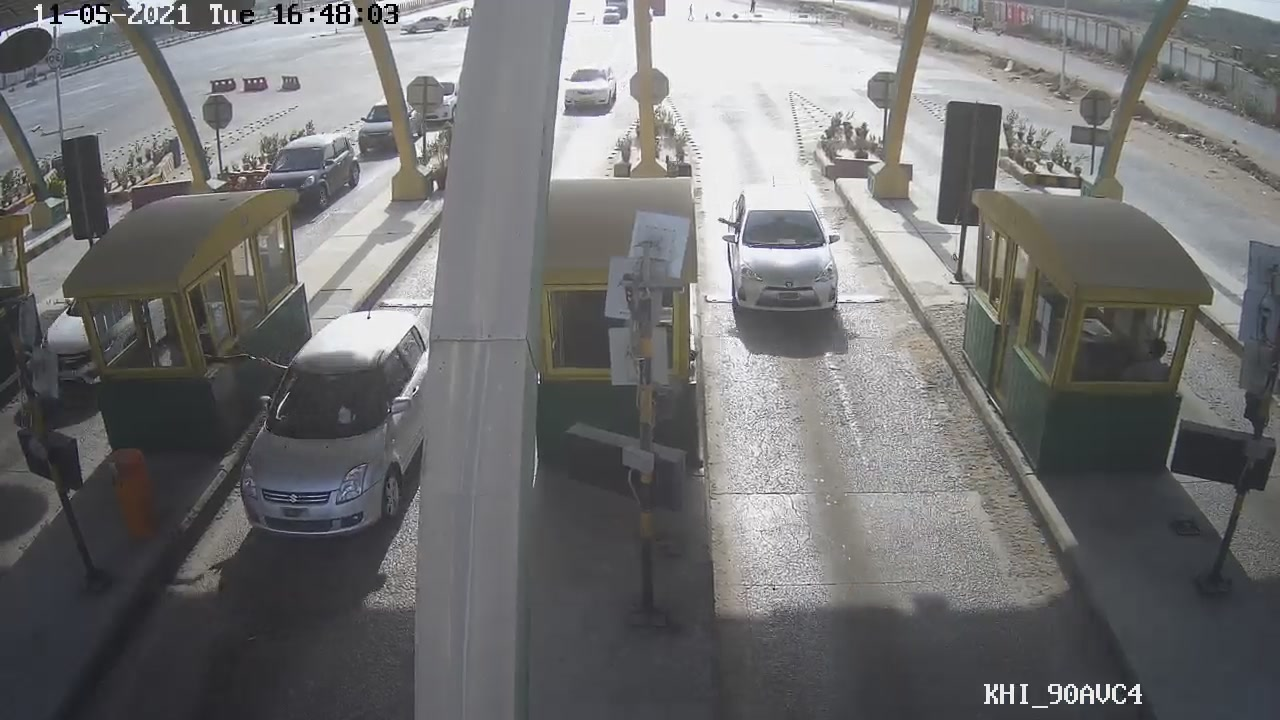F1: (714, 181, 852, 323)
